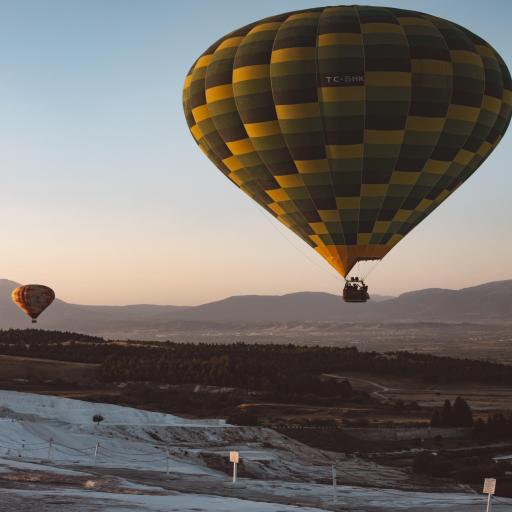hot air ballon: (181, 5, 512, 304), (11, 285, 55, 323)
